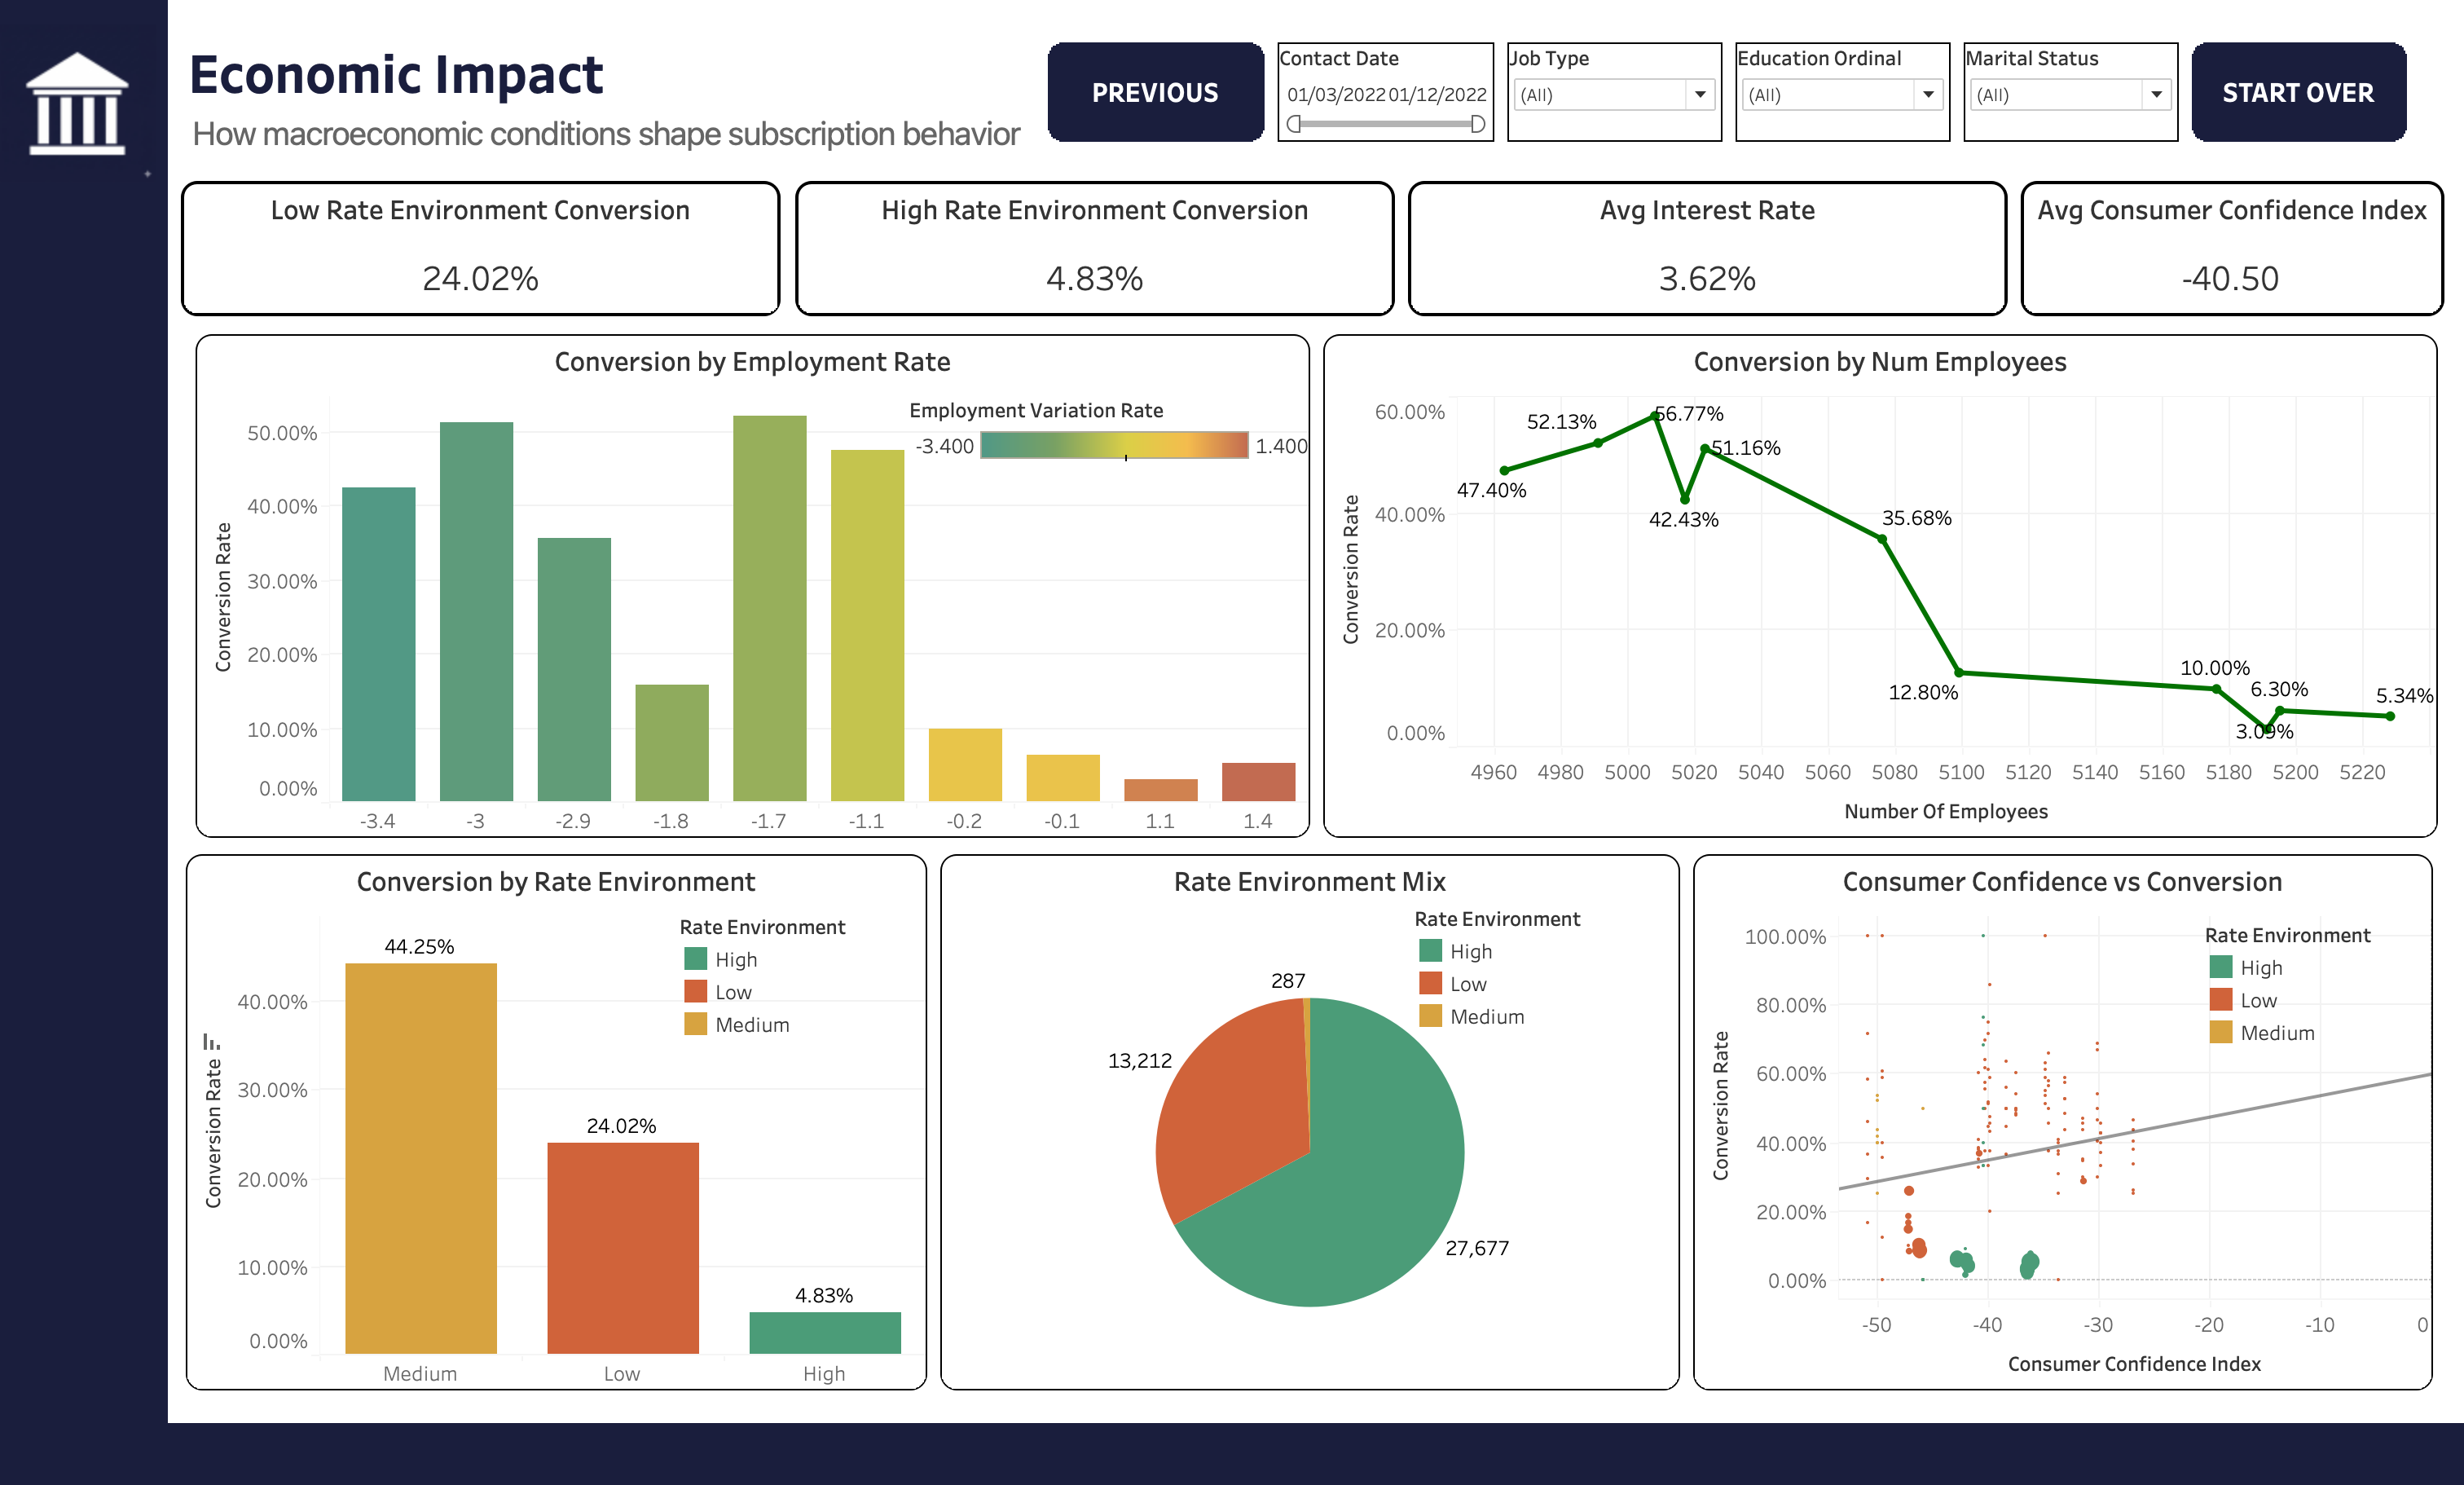

Layout of this report page (visuals, bound fields, positions):
{"tool":"tableau","page":{"name":"Dashboard 4 ","canvas":[1000,1000],"units":"permille","ordinal":3},"visuals":[{"type":"text","box":[71.8,9.3,922.1,112.2]},{"type":"dashboard-object","box":[13.8,20.2,48.5,78]},{"type":"text","box":[69.8,26.8,215.9,51.3]},{"type":"dashboard-object","box":[422.8,28,93,75.9]},{"type":"filter","title":"Avg Consumer Confidence Index","param":"[federated.15u9y5w1suofnn13o5t910siqhh7].[none:Calculation_2485578572034066:qk]","box":[515.8,28,93,75.9]},{"type":"filter","title":"Avg Consumer Confidence Index","param":"[federated.15u9y5w1suofnn13o5t910siqhh7].[none:job_type:nk]","box":[608.8,28,93,75.9]},{"type":"filter","title":"Avg Consumer Confidence Index","param":"[federated.15u9y5w1suofnn13o5t910siqhh7].[none:education_ordinal:nk]","box":[701.8,28,93,75.9]},{"type":"filter","title":"Avg Consumer Confidence Index","param":"[federated.15u9y5w1suofnn13o5t910siqhh7].[none:marital_status:nk]","box":[794.8,28,92.2,75.9]},{"type":"dashboard-object","box":[887,28,92.2,75.9]},{"type":"text","box":[77,79.4,381.2,28]},{"type":"worksheet","title":"Low Rate Environment Conversion","mark":"Automatic","box":[71.8,121.5,238.7,98.7]},{"type":"worksheet","title":"High Rate Environment Conversion","mark":"Automatic","box":[310.5,121.5,238.7,98.7]},{"type":"worksheet","title":"Avg Interest Rate","mark":"Automatic","box":[549.2,121.5,238.7,98.7]},{"type":"worksheet","title":"Avg Consumer Confidence Index","mark":"Automatic","box":[787.9,121.5,206,98.7]},{"type":"text","box":[71.8,220.2,922.1,770.5]},{"type":"worksheet","title":"Conversion by Employment Rate","mark":"Bar","rows":["Calculation_2485578601361431"],"cols":["employment_variation_rate"],"box":[76.9,222.9,458.1,345.4]},{"type":"worksheet","title":"Conversion by Num Employees","mark":"Automatic","rows":["Calculation_2485578601361431"],"cols":["number_of_employees"],"box":[535,222.9,457.3,345.4]},{"type":"legend","title":"Conversion by Employment Rate","param":"[federated.15u9y5w1suofnn13o5t910siqhh7].[none:employment_variation_rate:qk]","box":[368.9,268.4,165.3,67.7]},{"type":"worksheet","title":"Conversion by Rate Environment","mark":"Bar","rows":["Calculation_2485578601361431"],"cols":["rate_environment"],"box":[73,570.6,305.9,366.4]},{"type":"worksheet","title":"Rate Environment Mix","mark":"Pie","box":[378.9,570.6,305.9,366.4]},{"type":"worksheet","title":"Consumer Confidence vs Conversion","mark":"Circle","rows":["Calculation_2485578601361431"],"cols":["consumer_confidence_index"],"box":[684.9,570.6,305.2,366.4]},{"type":"legend","title":"Rate Environment Mix","param":"[federated.15u9y5w1suofnn13o5t910siqhh7].[none:rate_environment:nk]","box":[574.2,607.9,107.6,91]},{"type":"legend","title":"Conversion by Rate Environment","param":"[federated.15u9y5w1suofnn13o5t910siqhh7].[none:rate_environment:nk]","box":[275.9,613.8,119.1,89.9]},{"type":"legend","title":"Consumer Confidence vs Conversion","param":"[federated.15u9y5w1suofnn13o5t910siqhh7].[none:rate_environment:nk]","box":[894.7,619.6,89.9,89.9]}]}

Visuals, with their boxes on the dashboard's canvas, which has no fixed pixel size, in thousandths of its width and height (x1, y1, x2, y2). These are canvas units, not pixel positions in the 2464x1485 screenshot, which may show the page scaled, cropped or inside an application window:
text: 72:9:994:122
dashboard-object: 14:20:62:98
text: 70:27:286:78
dashboard-object: 423:28:516:104
"Avg Consumer Confidence Index" filter: 516:28:609:104
"Avg Consumer Confidence Index" filter: 609:28:702:104
"Avg Consumer Confidence Index" filter: 702:28:795:104
"Avg Consumer Confidence Index" filter: 795:28:887:104
dashboard-object: 887:28:979:104
text: 77:79:458:107
"Low Rate Environment Conversion" worksheet: 72:122:310:220
"High Rate Environment Conversion" worksheet: 310:122:549:220
"Avg Interest Rate" worksheet: 549:122:788:220
"Avg Consumer Confidence Index" worksheet: 788:122:994:220
text: 72:220:994:991
"Conversion by Employment Rate" worksheet (Bar marks): 77:223:535:568
"Conversion by Num Employees" worksheet: 535:223:992:568
"Conversion by Employment Rate" legend: 369:268:534:336
"Conversion by Rate Environment" worksheet (Bar marks): 73:571:379:937
"Rate Environment Mix" worksheet (Pie marks): 379:571:685:937
"Consumer Confidence vs Conversion" worksheet (Circle marks): 685:571:990:937
"Rate Environment Mix" legend: 574:608:682:699
"Conversion by Rate Environment" legend: 276:614:395:704
"Consumer Confidence vs Conversion" legend: 895:620:985:710
